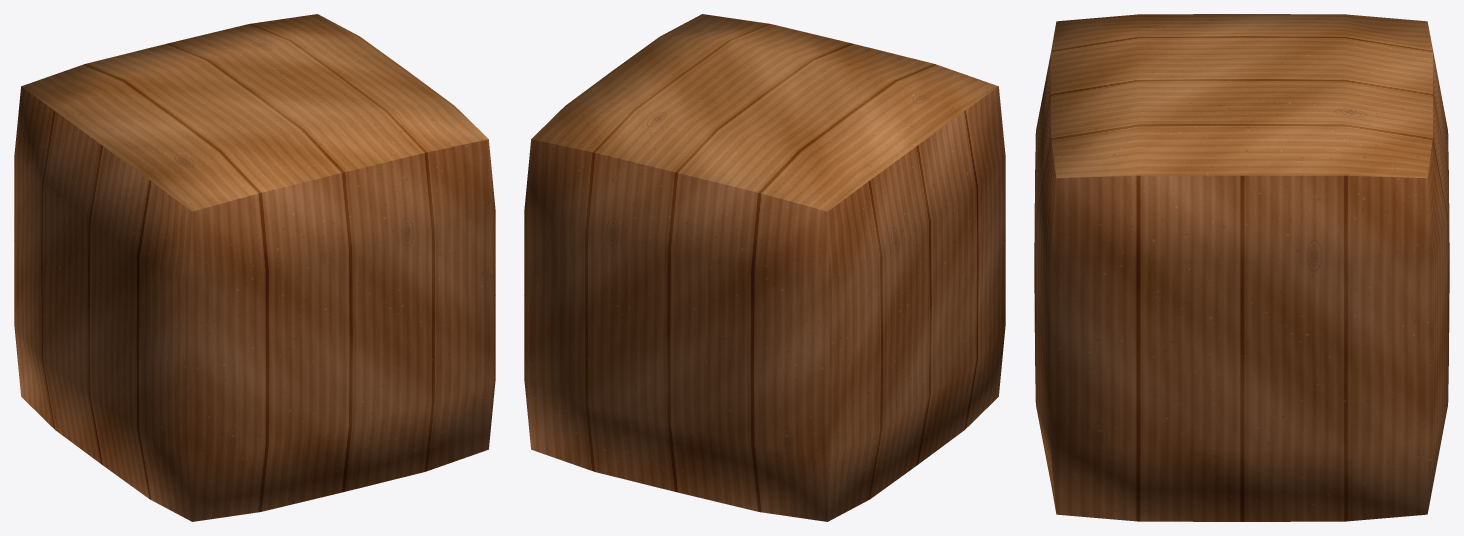
The model's file is timber_single.glb.
The picture shows the model from 3 angles, left to right: view 1: azimuth 30°, elevation 25°; view 2: azimuth 150°, elevation 25°; view 3: azimuth 270°, elevation 25°; orthographic projection. The views are drawn at different scales.
Parts seen in each view (by area): view 1: timber_single; view 2: timber_single; view 3: timber_single.
Boxes of the visible parts, x1,y1,x2,y2 form: timber_single: (14, 14, 495, 521); timber_single: (524, 14, 1005, 521); timber_single: (1034, 14, 1449, 521).
Size of the model in its own units: 1 by 1 by 1.
Materials: 2 (2 with a texture image).
